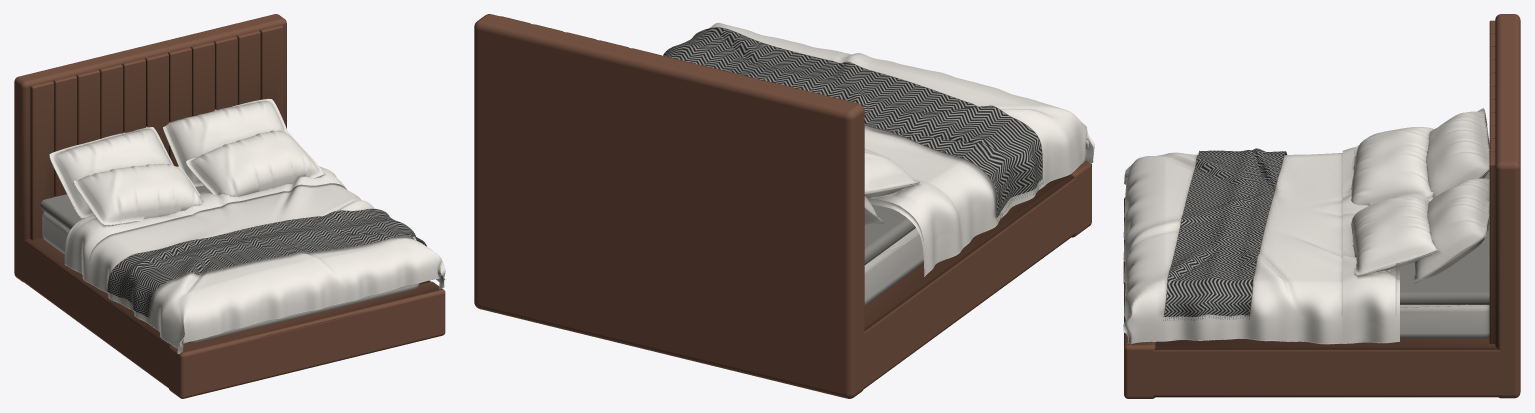
File: violetta.glb
3 views of the same model, side by side, from view 1: azimuth 30°, elevation 25°; view 2: azimuth 150°, elevation 25°; view 3: azimuth 270°, elevation 25° (orthographic). The views are drawn at different scales.
Visible parts, largest first — view 1: Linen, Upholstered frame, Woven throw, Linen piping, Throw fringe; view 2: Upholstered frame, Linen, Woven throw, Throw fringe; view 3: Linen, Upholstered frame, Woven throw, Linen piping, Throw fringe.
Part boxes in pixels (x1,y1,x2,y2): Linen: [40, 99, 445, 353]; Upholstered frame: [14, 14, 445, 398]; Woven throw: [107, 209, 426, 317]; Linen piping: [49, 98, 445, 353]; Throw fringe: [106, 208, 426, 320]; Upholstered frame: [474, 14, 1091, 398]; Linen: [709, 22, 1094, 305]; Woven throw: [663, 27, 1042, 217]; Throw fringe: [693, 27, 1043, 221]; Linen: [1123, 108, 1489, 343]; Upholstered frame: [1124, 14, 1520, 398]; Woven throw: [1164, 148, 1286, 316]; Linen piping: [1123, 108, 1489, 344]; Throw fringe: [1163, 150, 1287, 320].
Bounding box in the file's own units: 2.04 × 1.48 × 2.19.
7 materials, 1 textured.
